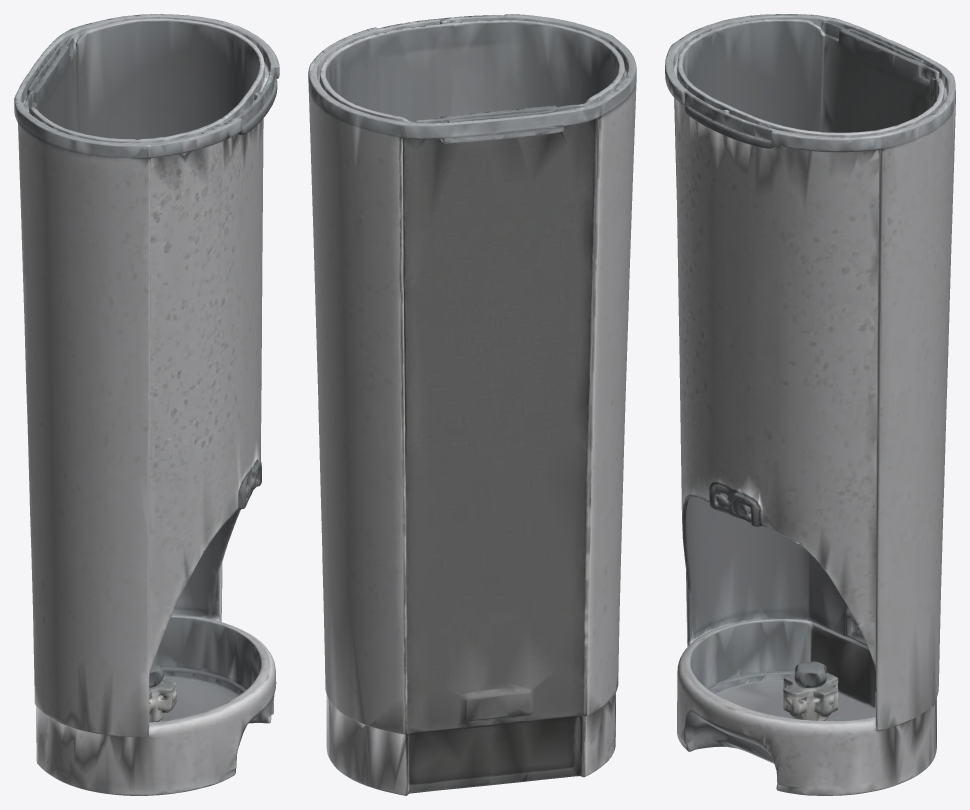
The model's file is tank.glb.
3 renders of one model, left to right at view 1: azimuth 30°, elevation 25°; view 2: azimuth 150°, elevation 25°; view 3: azimuth 270°, elevation 25°, orthographic. The views are drawn at different scales.
Visible parts, largest first — view 1: tripo_node_f4a121d6-0211-422d-b333-46518ebeb429; view 2: tripo_node_f4a121d6-0211-422d-b333-46518ebeb429; view 3: tripo_node_f4a121d6-0211-422d-b333-46518ebeb429.
Boxes of the visible parts, bbox=[...] form: tripo_node_f4a121d6-0211-422d-b333-46518ebeb429: bbox=[14, 14, 279, 795]; tripo_node_f4a121d6-0211-422d-b333-46518ebeb429: bbox=[308, 14, 636, 795]; tripo_node_f4a121d6-0211-422d-b333-46518ebeb429: bbox=[665, 14, 955, 795].
Size of the model in its own units: 0.4089 by 0.9999 by 0.3981.
Materials: 1 (1 with a texture image).
